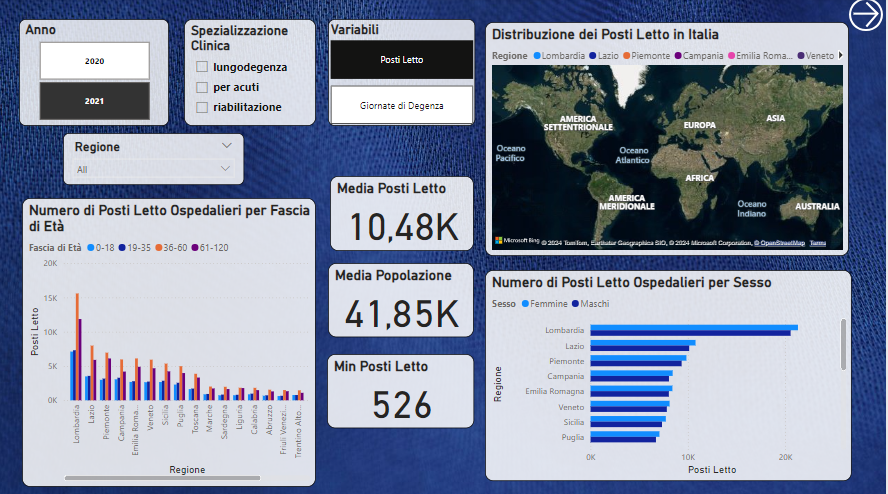

Layout of this report page (visuals, bound fields, positions):
{"tool":"powerbi","page":{"name":"Bookmark","canvas":[1280,720],"ordinal":1},"visuals":[{"type":"slicer","title":"Anno","fields":{"Values":["Calendar.Year"]},"box":[31.7,30.2,216,154.1],"z":0},{"type":"clusteredBarChart","title":"Numero di Posti Letto Ospedalieri per Sesso","fields":{"Category":["sanita regioni.nome"],"Y":["Measures (2).Posti Letto ALL"],"Series":["fact sanita popolazione.sesso"]},"box":[702.7,391,528.5,303.8],"z":0,"group":"g1"},{"type":"map","title":"Distribuzione dei Posti Letto in Italia","fields":{"Series":["sanita regioni.nome"],"Category":["sanita regioni.nome"],"Size":["Measures (2).Posti Letto ALL"]},"box":[702.7,34.2,524.2,337],"z":1000,"group":"g1"},{"type":"slicer","fields":{"Values":["sanita regioni.nome"]},"box":[95,194.4,260.6,74.9],"z":1000},{"type":"slicer","title":"Spezializzazione Clinica","fields":{"Values":["sanita specializzazioni_cliniche.specializzazione_clinica"]},"box":[269.3,30.2,190.1,154.1],"z":2000},{"type":"card","title":"Media Posti Letto","fields":{"Values":["Measures (2).posti_letto average per nome"]},"box":[479.5,256,207.4,108],"z":2000,"group":"g1"},{"type":"group","id":"g1","title":"Group 1","box":[36,34.2,1195.2,668.9],"z":3000},{"type":"card","title":"Media Popolazione","fields":{"Values":["Calendar.Posti Letto max per nome"]},"box":[476.6,381.8,210.2,106.6],"z":3000,"group":"g1"},{"type":"card","title":"Min Posti Letto","fields":{"Values":["Calendar.Posti Letto min per nome"]},"box":[475.2,512.9,211.7,106.6],"z":4000,"group":"g1"},{"type":"bookmarkNavigator","title":"Variabili","box":[476.6,30.2,211.7,154.1],"z":5000},{"type":"clusteredColumnChart","title":"Numero di Posti Letto Ospedalieri per Fascia di Età","fields":{"Category":["sanita regioni.nome"],"Y":["Measures (2).Posti Letto ALL"],"Series":["fact sanita popolazione.fascia"]},"box":[36,287.5,422.9,415.6],"z":5000,"group":"g1"},{"type":"actionButton","box":[1226.9,0,49,47.5],"z":5001}]}

Visuals, with their boxes in screenshot pixels (x1, y1, x2, y2), scaled from the page's 1280x720 canvas onto the 888x494 screenshot:
"Anno" slicer: (x1=22, y1=21, x2=172, y2=126)
"Numero di Posti Letto Ospedalieri per Sesso" clusteredBarChart: (x1=487, y1=268, x2=854, y2=477)
"Distribuzione dei Posti Letto in Italia" map: (x1=487, y1=23, x2=851, y2=255)
slicer - sanita regioni.nome: (x1=66, y1=133, x2=247, y2=185)
"Spezializzazione Clinica" slicer: (x1=187, y1=21, x2=319, y2=126)
"Media Posti Letto" card: (x1=333, y1=176, x2=477, y2=250)
"Group 1" group: (x1=25, y1=23, x2=854, y2=482)
"Media Popolazione" card: (x1=331, y1=262, x2=476, y2=335)
"Min Posti Letto" card: (x1=330, y1=352, x2=477, y2=425)
"Variabili" bookmarkNavigator: (x1=331, y1=21, x2=478, y2=126)
"Numero di Posti Letto Ospedalieri per Fascia di Età" clusteredColumnChart: (x1=25, y1=197, x2=318, y2=482)
actionButton: (x1=851, y1=0, x2=885, y2=33)
